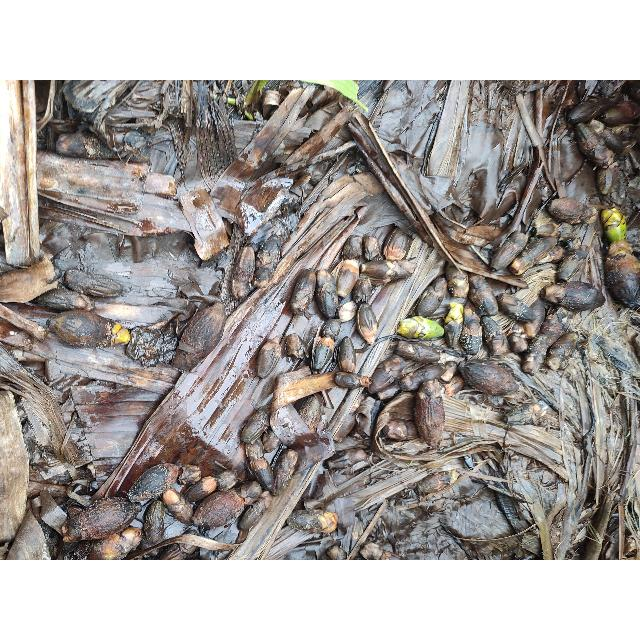damaged: (177, 304, 226, 366), (126, 462, 180, 503), (63, 268, 125, 298), (494, 292, 542, 322), (544, 329, 580, 368), (238, 490, 272, 530), (505, 399, 553, 427), (362, 260, 416, 284), (240, 404, 272, 444), (162, 488, 195, 526), (515, 302, 549, 338), (273, 449, 299, 496), (479, 314, 508, 356), (36, 288, 90, 310), (558, 248, 592, 282), (232, 248, 255, 298), (256, 334, 282, 378), (468, 276, 498, 314), (248, 458, 276, 498), (290, 270, 314, 314), (366, 364, 398, 396), (538, 310, 568, 344), (316, 272, 338, 318), (144, 499, 166, 545), (182, 476, 220, 502), (460, 311, 482, 355), (336, 260, 360, 300), (383, 227, 411, 261), (298, 396, 322, 434), (418, 279, 444, 313), (357, 300, 378, 342), (311, 336, 333, 374), (256, 234, 282, 266), (446, 266, 469, 300), (208, 469, 240, 493), (338, 336, 357, 376), (330, 448, 368, 468), (418, 472, 449, 496), (376, 356, 409, 378), (380, 420, 416, 440), (284, 332, 308, 362), (252, 264, 276, 294), (335, 372, 369, 391), (352, 276, 372, 306), (342, 235, 363, 262), (362, 235, 382, 263), (321, 318, 343, 342), (336, 300, 358, 322), (443, 374, 465, 396)
